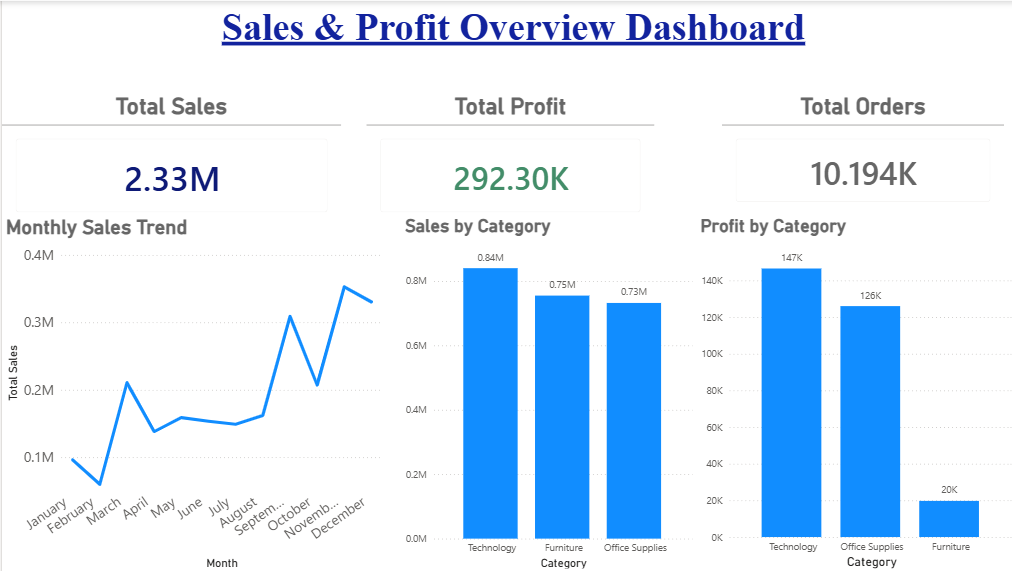

What the dashboard file says about the page in this screenshot:
{"tool":"powerbi","page":{"name":"Overview","canvas":[1280,720],"ordinal":0},"visuals":[{"type":"textbox","box":[9.4,0,1269.9,115.3],"z":0},{"type":"cardVisual","title":"Total Sales","fields":{"Data":["cleaned_superstore.Total Sales"]},"box":[0,115.3,427.1,168.2],"z":1},{"type":"cardVisual","title":"Total Profit","fields":{"Data":["cleaned_superstore.Total Profit"]},"box":[459.2,115.3,362.8,168.2],"z":2},{"type":"cardVisual","title":"Total Orders","fields":{"Data":["cleaned_superstore.Total Orders"]},"box":[907.1,115.3,355.3,155],"z":3},{"type":"lineChart","title":"Monthly Sales Trend","fields":{"Y":["cleaned_superstore.Total Sales"],"Category":["cleaned_superstore.Order Date.Variation.Date Hierarchy.Month"]},"box":[0,270.2,483.8,449.8],"z":4},{"type":"clusteredColumnChart","title":"Sales by Category","fields":{"Category":["cleaned_superstore.Category"],"Y":["cleaned_superstore.Total Sales"]},"box":[502.7,270.2,372.3,449.8],"z":5},{"type":"clusteredColumnChart","title":"Profit by Category","fields":{"Category":["cleaned_superstore.Category"],"Y":["cleaned_superstore.Total Profit"]},"box":[875,270.2,404.4,449.8],"z":6}]}

Visuals, with their boxes in screenshot pixels (x1, y1, x2, y2), scaled from the page's 1280x720 canvas onto the 1012x571 screenshot:
textbox: (x1=7, y1=0, x2=1011, y2=91)
"Total Sales" cardVisual: (x1=0, y1=91, x2=338, y2=225)
"Total Profit" cardVisual: (x1=363, y1=91, x2=650, y2=225)
"Total Orders" cardVisual: (x1=717, y1=91, x2=998, y2=214)
"Monthly Sales Trend" lineChart: (x1=0, y1=214, x2=383, y2=570)
"Sales by Category" clusteredColumnChart: (x1=397, y1=214, x2=692, y2=570)
"Profit by Category" clusteredColumnChart: (x1=692, y1=214, x2=1011, y2=570)
